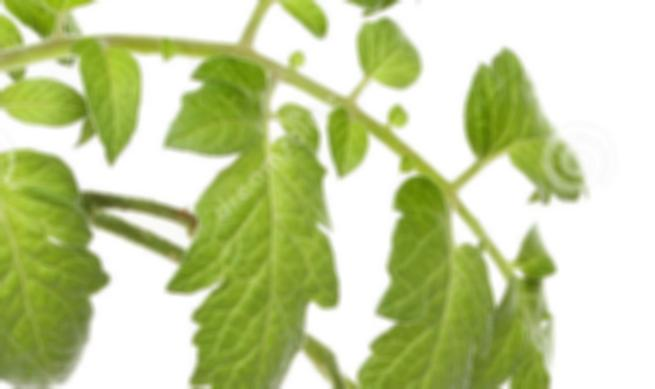Tomato leaf: (155, 26, 361, 389), (352, 117, 531, 389), (0, 118, 127, 389), (74, 26, 151, 173)
